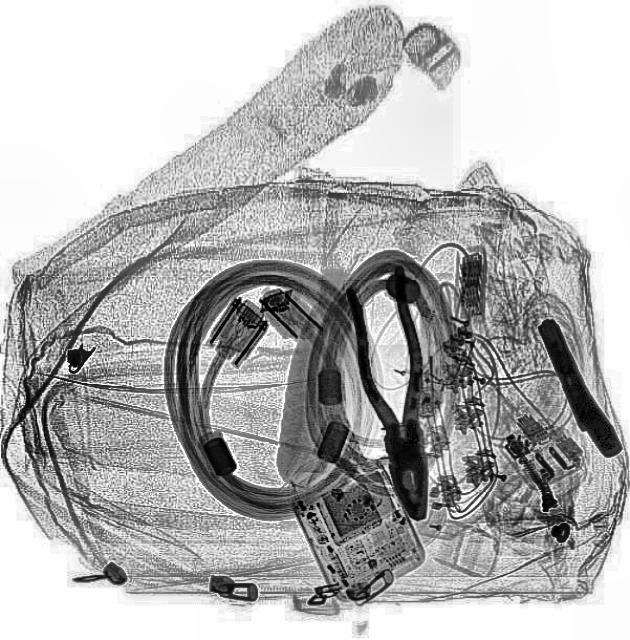Gun: (530, 314, 626, 468)
Pliers: (341, 264, 451, 524)
